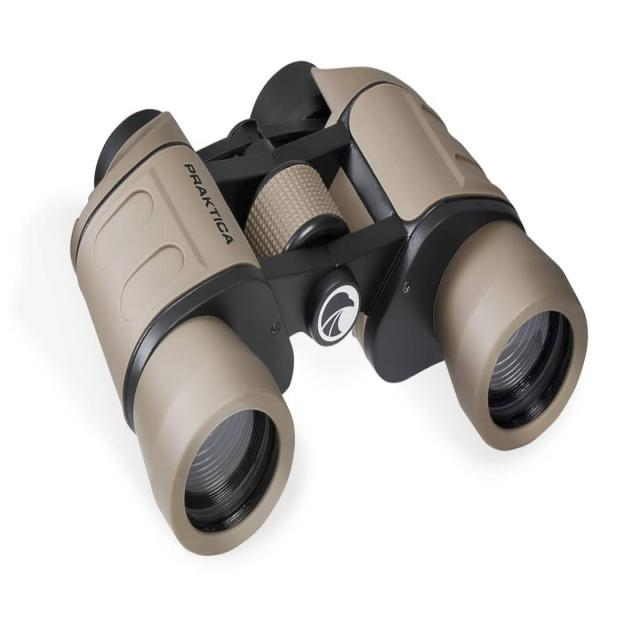Binocular: (61, 57, 596, 560)
